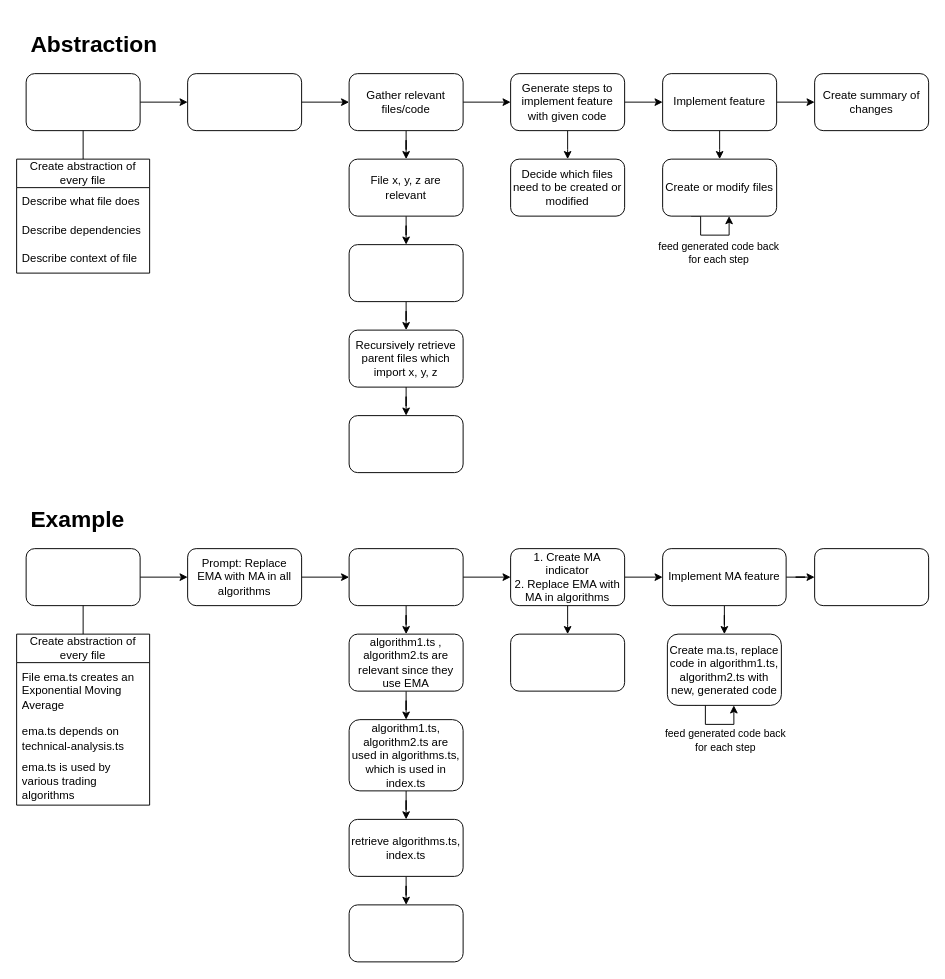
Image size: 945x979. Some labels were removed from this diagram. The shapes that lost their labels are listed below. From the top down, each one's centre as x and y in pixels, then its label:
At pixel 82 102: "Create abstraction of repository".
At pixel 244 102: "Prompt: Implement feature".
At pixel 405 273: "Create bottom-up dependency graph of each file".
At pixel 405 444: "Gain complete context required for feature".
At pixel 82 577: "Create abstraction of repository MyTradingAPI".
At pixel 405 577: "algorithm1.ts algorithm2.ts algorithm3.ts".
At pixel 871 577: "ma.ts was created, algorithm1.calcEma() was changed to calcMa()...".
At pixel 567 662: "1. Create ma.ts 2. Modify algorithm1.ts, algorithm2.ts".
At pixel 405 933: "Create text that includes all required files".
